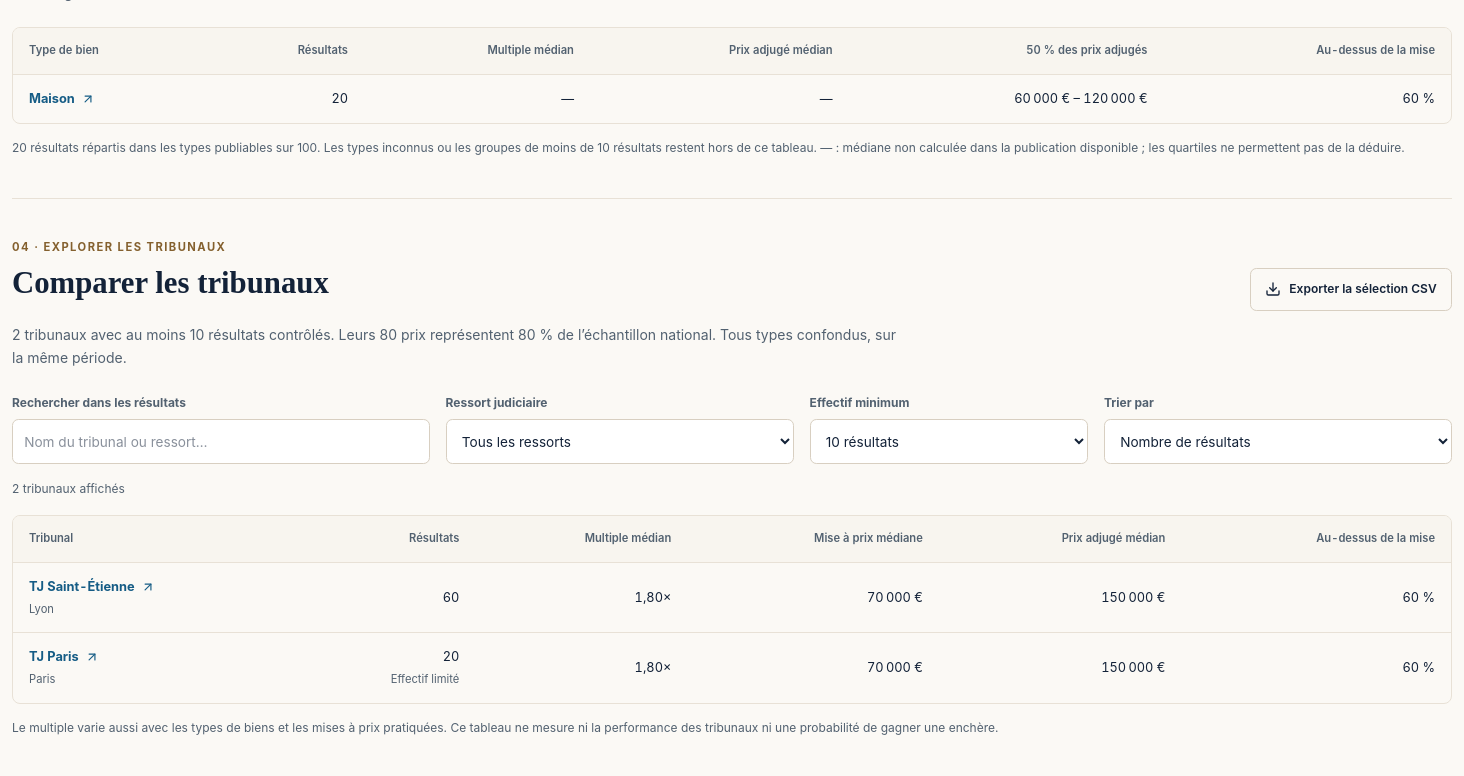
AdjudicationBarometer › recherche sans accents, ouvre le tribunal exact puis réinitialise une sélection vide
(page scrolled)
Type "saint-etienne" into the search field at [221, 442], box [12, 419, 430, 464]
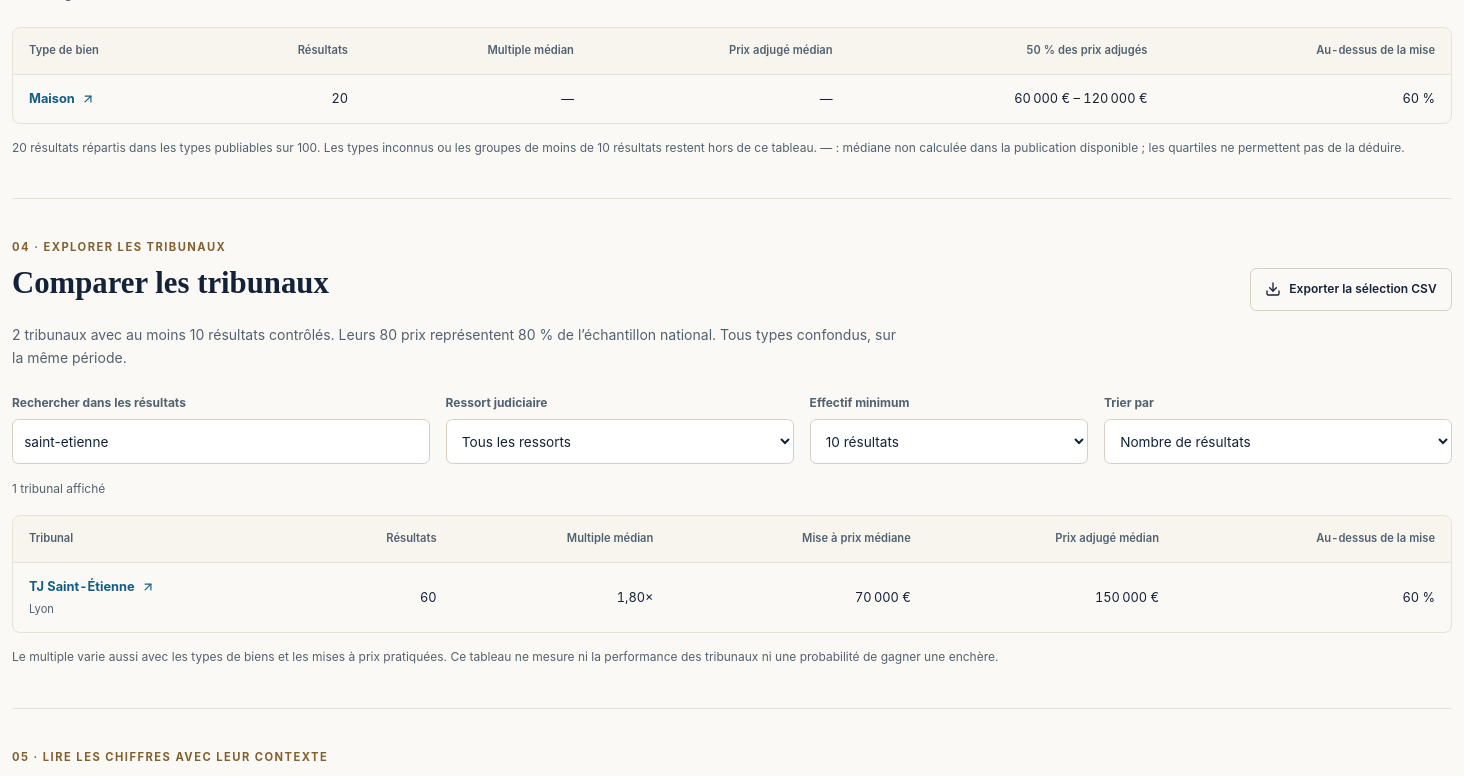
Click the button with aria-label "Analyser TJ Saint-Étienne" at [92, 586], box [29, 577, 155, 596]
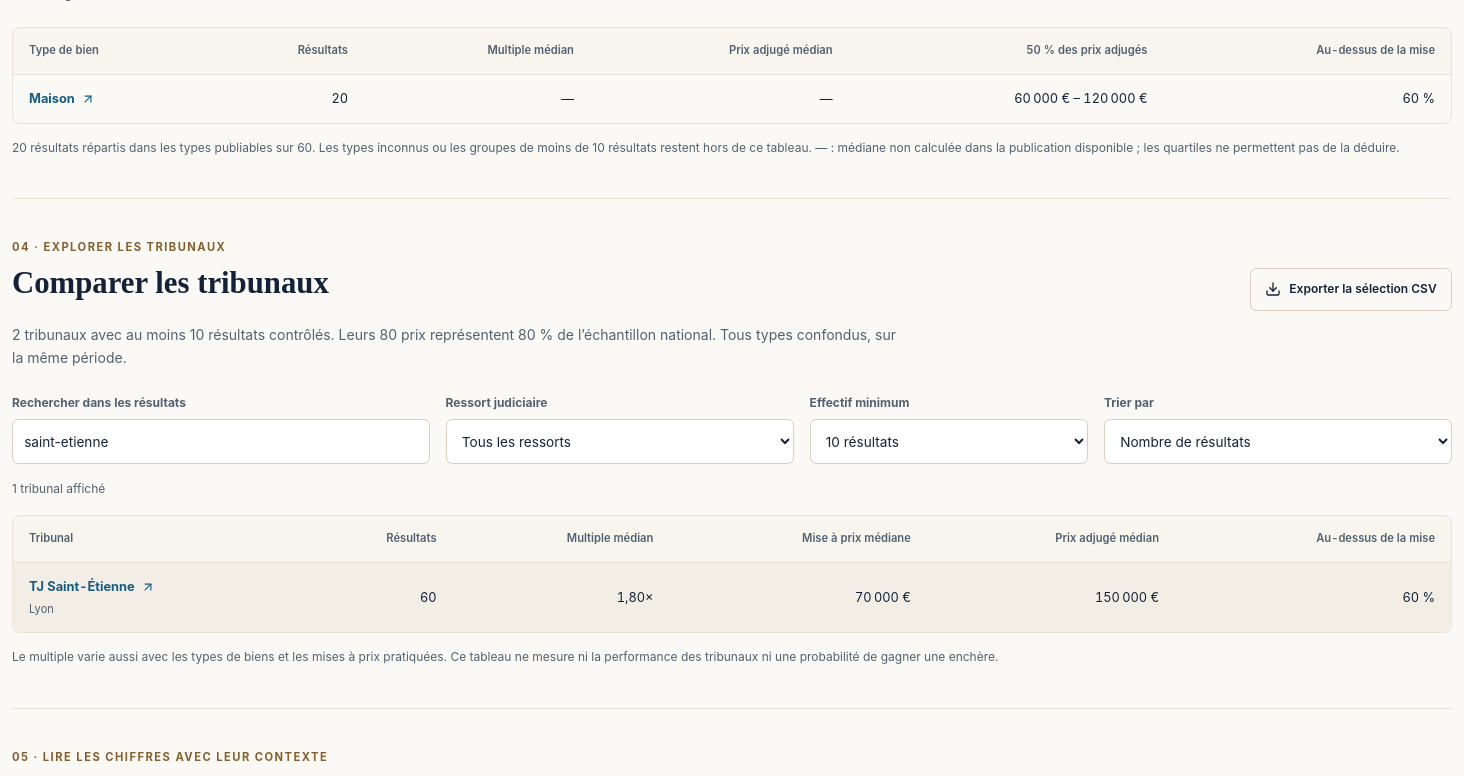
Select "100 résultats" in the dropdown labelled "Effectif minimum" at [949, 442], box [810, 419, 1088, 464]
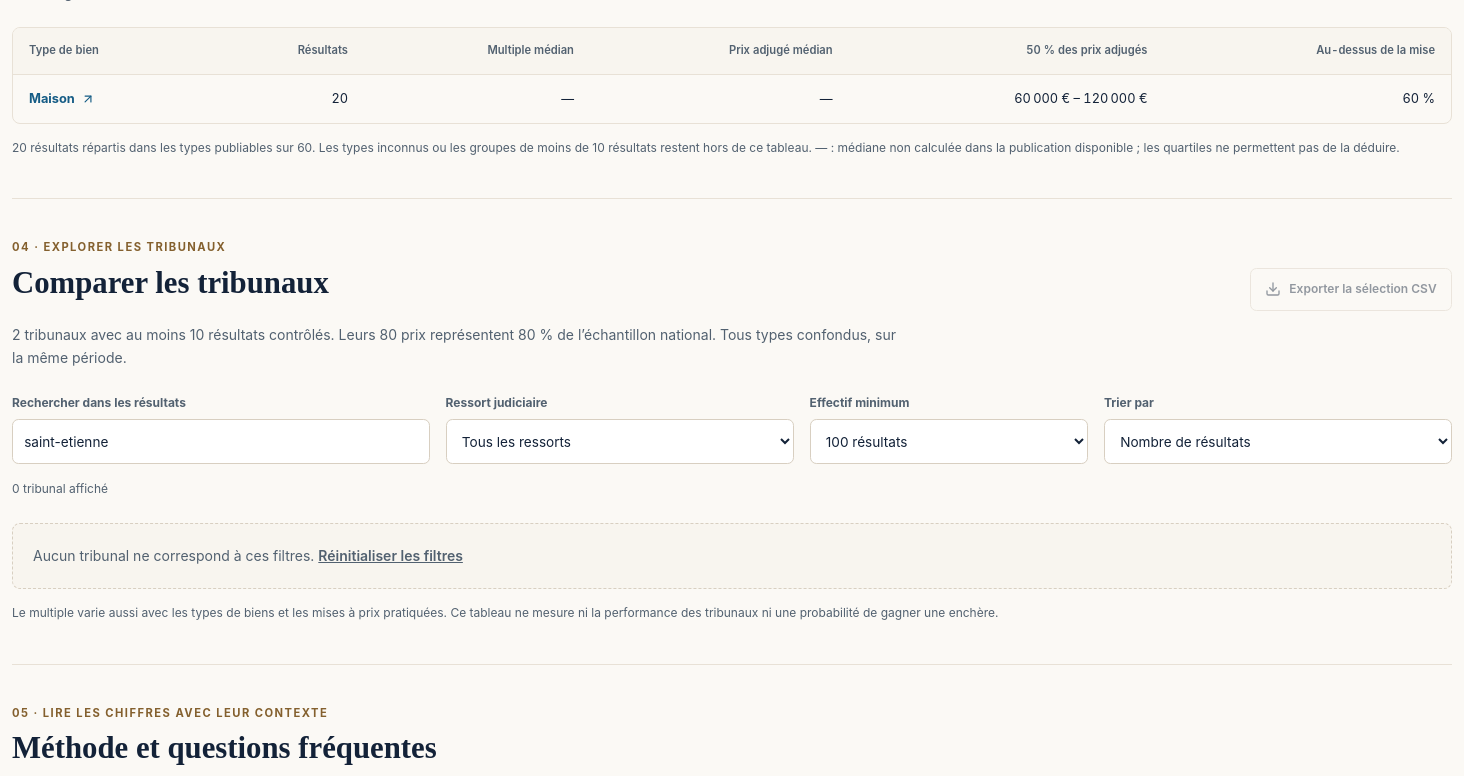
Expected: the button "Exporter la sélection CSV" is disabled, [1250, 268, 1452, 311]
Click the button "Réinitialiser les filtres" at [391, 556], box [318, 544, 463, 568]
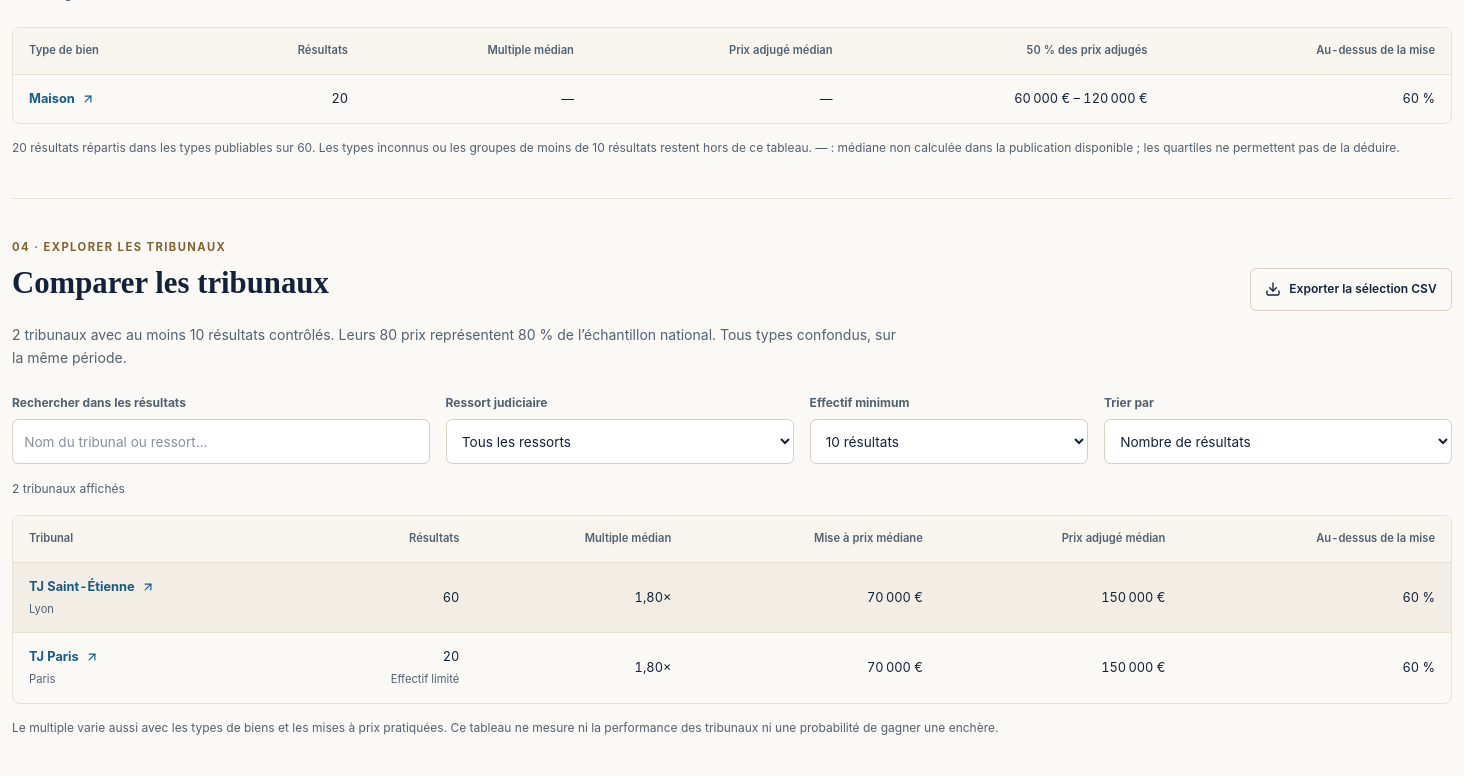
Expected: the button with aria-label "Analyser TJ Paris" is shown, [29, 648, 99, 667]
